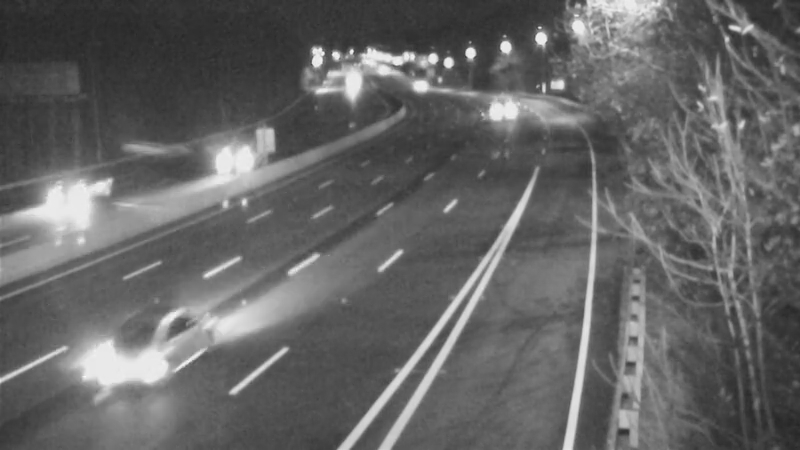vehicle: (79, 299, 189, 409), (24, 162, 104, 242), (186, 121, 266, 201), (392, 57, 442, 107), (476, 85, 526, 135)
